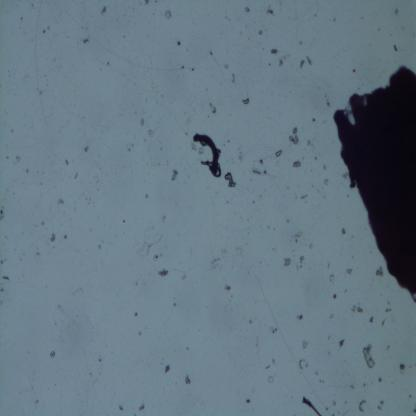Air bubble: (275, 149, 283, 159)
Background material: (362, 343, 378, 370), (302, 396, 322, 416), (225, 170, 238, 191), (288, 127, 300, 146), (276, 52, 292, 66), (299, 54, 313, 70), (208, 255, 223, 269), (290, 231, 302, 244), (48, 346, 59, 360), (170, 167, 180, 182), (357, 398, 366, 414), (266, 356, 275, 372), (74, 286, 86, 297), (81, 33, 93, 44), (142, 238, 152, 251), (156, 269, 170, 278), (267, 324, 278, 335), (163, 10, 173, 22), (282, 256, 292, 268), (298, 358, 308, 370), (298, 255, 306, 269), (238, 145, 245, 161), (376, 264, 384, 278), (209, 102, 217, 115), (184, 373, 192, 386), (36, 84, 44, 97), (266, 374, 276, 384), (49, 230, 56, 244), (338, 338, 346, 350), (291, 160, 302, 168), (392, 43, 400, 54), (301, 338, 308, 350), (350, 307, 362, 314), (296, 312, 304, 322), (266, 7, 276, 15), (305, 139, 315, 147), (243, 6, 253, 14), (61, 156, 69, 166), (56, 303, 63, 314), (100, 6, 108, 15), (399, 363, 405, 375), (224, 283, 232, 292), (322, 176, 328, 188), (323, 95, 329, 107), (39, 219, 47, 228), (270, 46, 278, 55), (346, 266, 353, 276), (242, 96, 249, 106), (390, 313, 396, 324), (0, 210, 5, 223), (138, 404, 146, 412), (163, 364, 171, 372), (60, 233, 68, 241), (153, 252, 161, 260), (229, 72, 235, 82), (369, 314, 375, 324), (385, 306, 395, 312), (72, 170, 78, 180), (162, 210, 166, 224), (34, 398, 41, 406), (348, 382, 355, 390), (382, 315, 387, 326), (329, 275, 335, 284), (340, 226, 346, 235), (94, 244, 103, 250), (84, 145, 90, 154), (57, 197, 63, 206), (317, 378, 325, 384), (244, 398, 252, 404), (247, 315, 252, 324), (119, 403, 124, 412), (408, 392, 414, 399), (3, 274, 10, 280), (328, 313, 334, 320), (378, 376, 384, 383), (322, 164, 328, 171), (285, 217, 290, 225), (300, 193, 308, 198), (258, 28, 263, 36), (379, 399, 384, 407), (172, 301, 178, 307), (190, 66, 196, 72), (0, 286, 5, 293), (314, 368, 318, 376), (42, 27, 46, 35), (0, 260, 5, 266), (176, 42, 181, 48), (35, 250, 40, 256), (144, 0, 150, 5), (332, 293, 337, 299), (326, 262, 330, 269), (166, 159, 170, 166), (98, 356, 102, 363), (134, 311, 138, 318), (351, 68, 356, 73), (145, 192, 149, 198), (412, 408, 416, 414), (386, 344, 390, 350), (260, 159, 264, 165), (186, 345, 190, 351), (332, 400, 336, 406), (312, 116, 316, 122), (331, 411, 335, 416), (344, 400, 349, 404), (308, 244, 312, 249), (224, 64, 228, 69), (377, 405, 382, 409), (314, 156, 318, 161), (121, 219, 126, 223), (333, 16, 336, 22), (210, 50, 213, 56), (138, 330, 141, 336), (181, 66, 185, 70), (386, 301, 390, 305), (106, 61, 109, 66), (328, 334, 330, 341), (300, 40, 302, 46), (48, 25, 50, 31), (362, 383, 366, 386), (20, 256, 22, 261), (314, 13, 316, 18), (134, 413, 136, 416)
Glass filter fibre: (250, 166, 278, 180)
Microfibre: (193, 133, 220, 175)
Pen: (332, 62, 416, 302)
